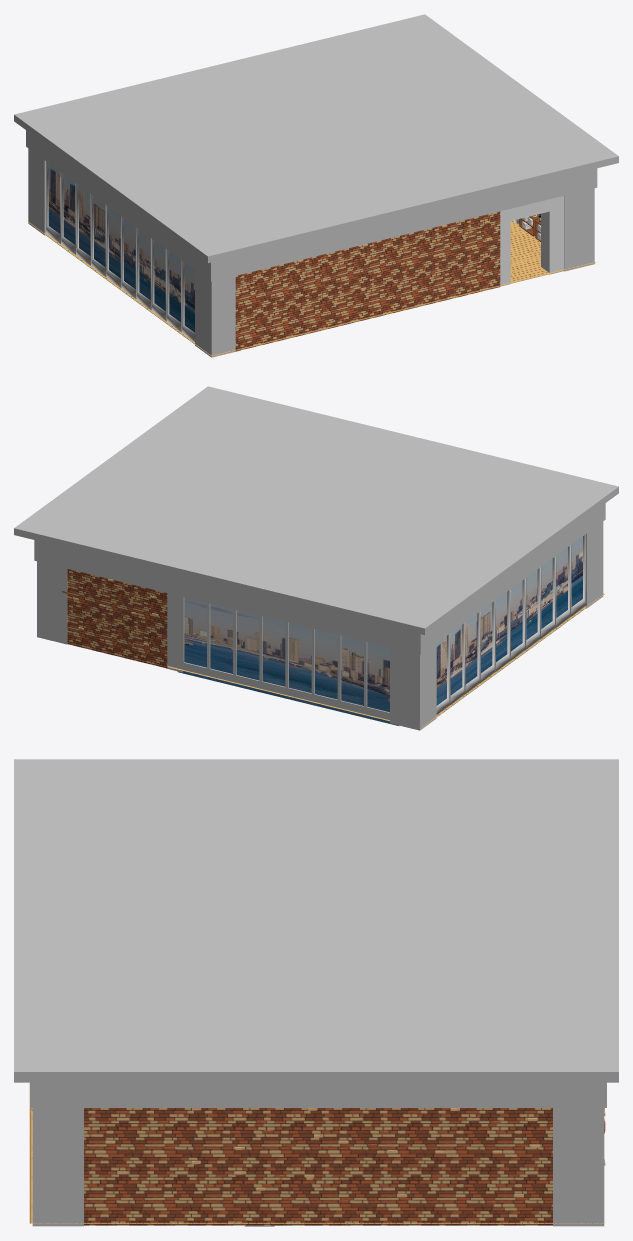
The model's file is training_room_02.fbx.
3 renders of one model, top to bottom at view 1: azimuth 30°, elevation 25°; view 2: azimuth 150°, elevation 25°; view 3: azimuth 270°, elevation 25°, orthographic. The views are drawn at different scales.
Parts seen in each view (by area): view 1: TrainingRoom02; view 2: TrainingRoom02; view 3: TrainingRoom02.
Boxes of the visible parts, x1=… form: TrainingRoom02: x1=14, y1=14, x2=618, y2=357; TrainingRoom02: x1=14, y1=386, x2=618, y2=730; TrainingRoom02: x1=14, y1=759, x2=618, y2=1226.
Size of the model in its own units: 2218 by 569 by 1813.
